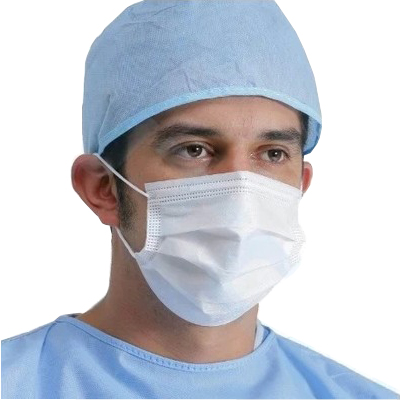face_mask: (123, 79, 303, 310)
